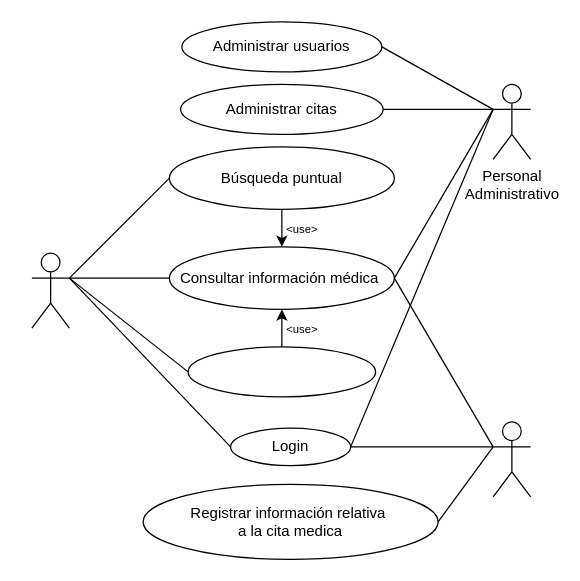
Some shapes in this 580 by 581 pixel diagram are drawn without their labels. The shapes that lost their labels are listed below. From the top down, each one's centre as x and y in pixels, then its label:
At (50,290): "Paciente".
At (281,371): "Emitir alarmas personalizadas".
At (511,459): "Personal de Salud".
